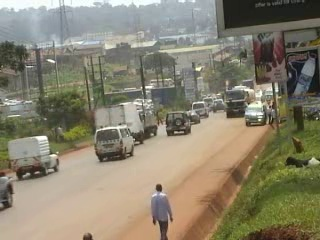Car: (162, 109, 193, 136), (0, 166, 16, 214), (183, 105, 202, 126), (210, 96, 228, 114)
